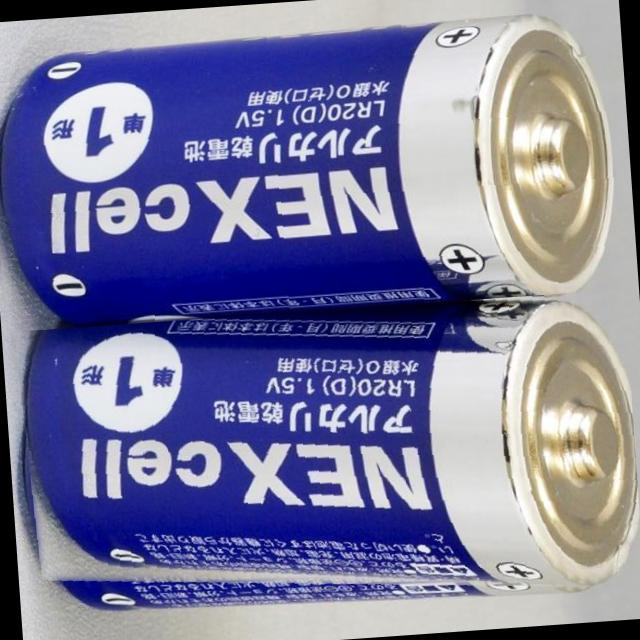Hazard: (10, 289, 640, 631), (0, 9, 622, 342)
